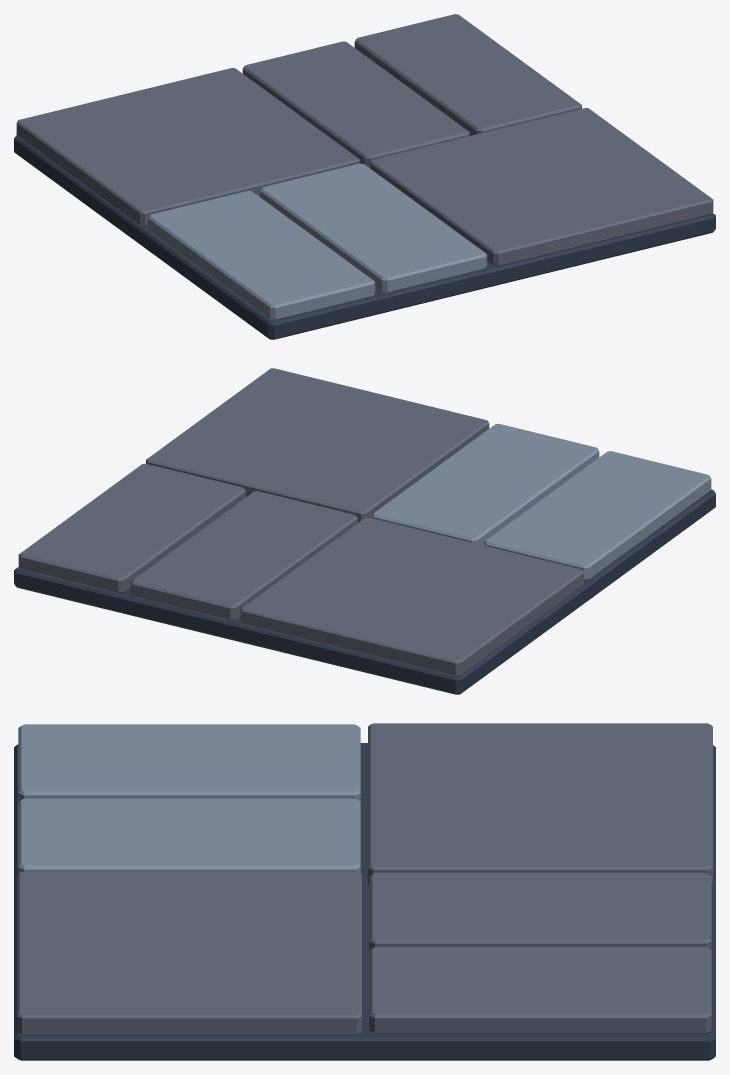
File: floor-cracked.glb
3 renders of one model, top to bottom at view 1: azimuth 30°, elevation 25°; view 2: azimuth 150°, elevation 25°; view 3: azimuth 270°, elevation 25°, orthographic. The views are drawn at different scales.
Parts seen in each view (by area): view 1: floor-cracked__body; view 2: floor-cracked__body; view 3: floor-cracked__body.
Boxes of the visible parts, <box> form: floor-cracked__body: <box>14,14,715,339</box>; floor-cracked__body: <box>14,368,715,694</box>; floor-cracked__body: <box>14,723,715,1060</box>.
Size of the model in its own units: 2 by 0.14 by 2.
